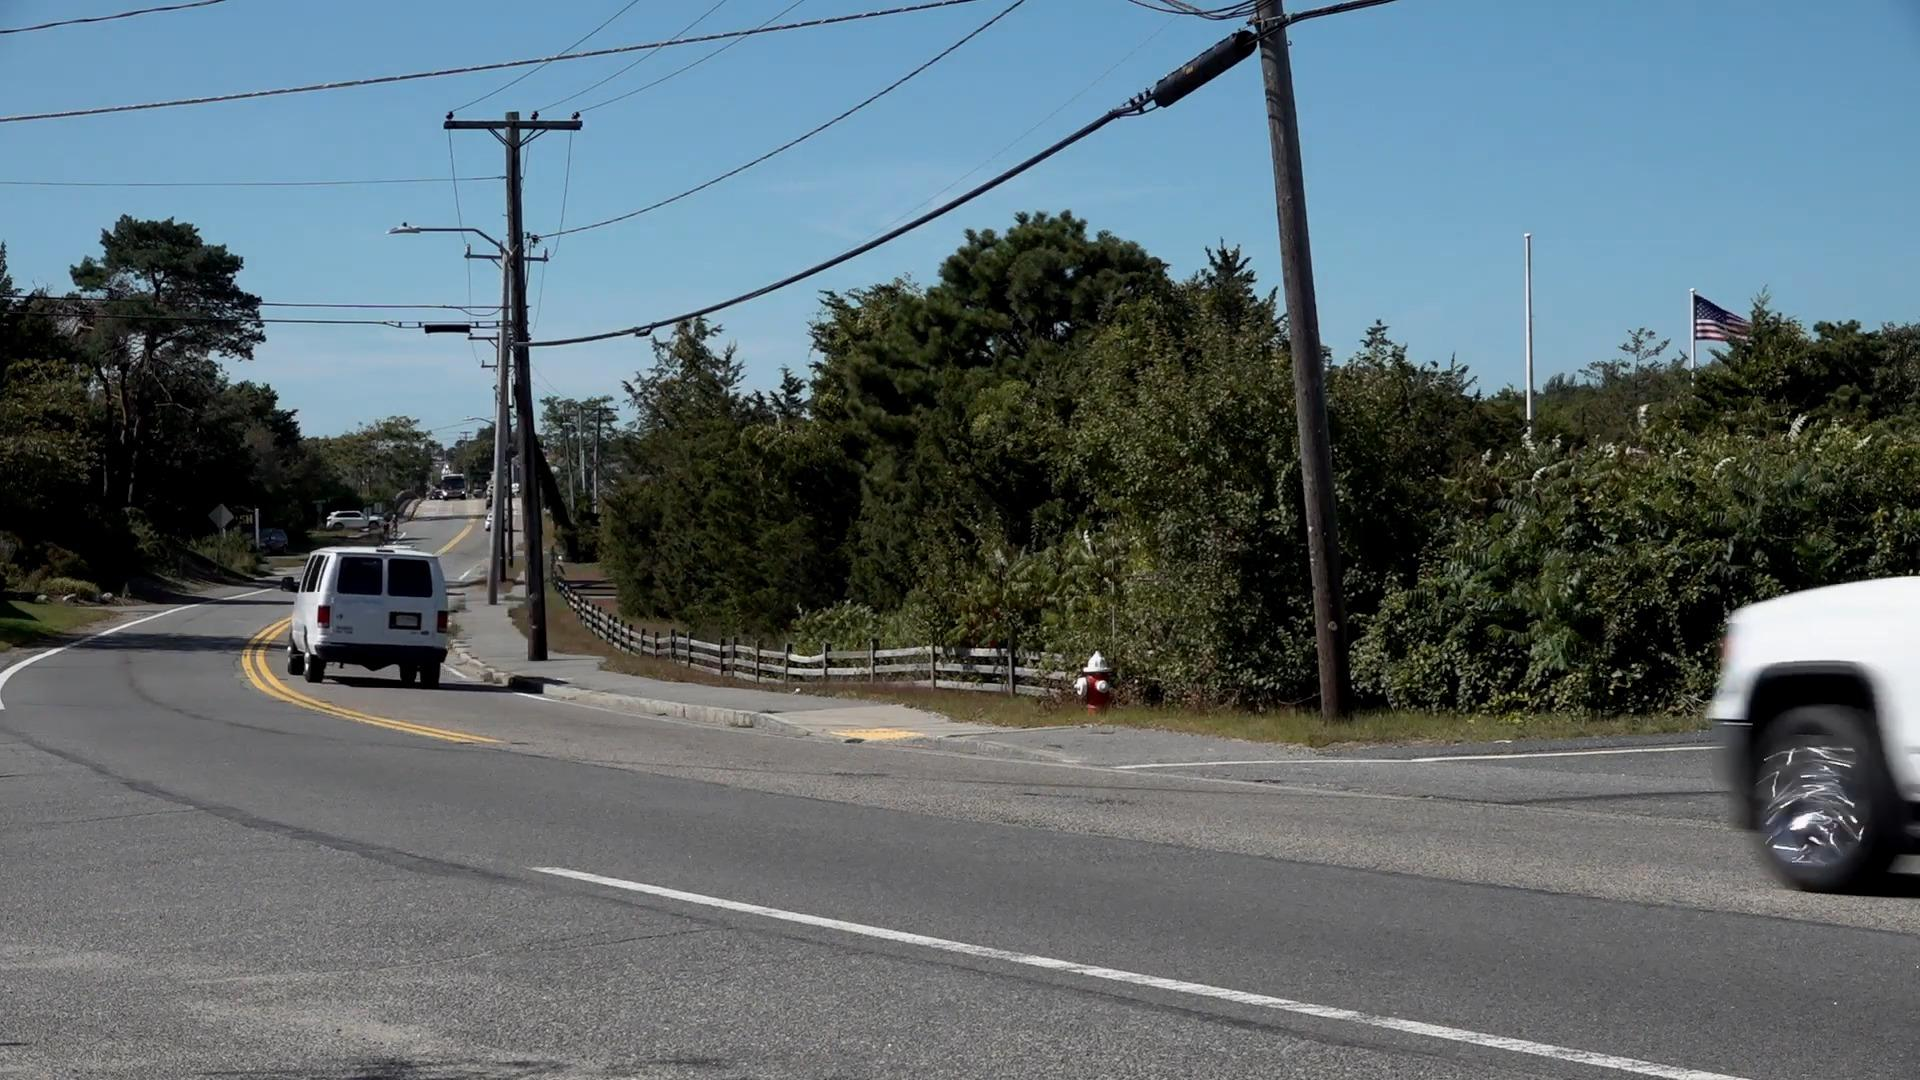minivan: (286, 546, 451, 684)
